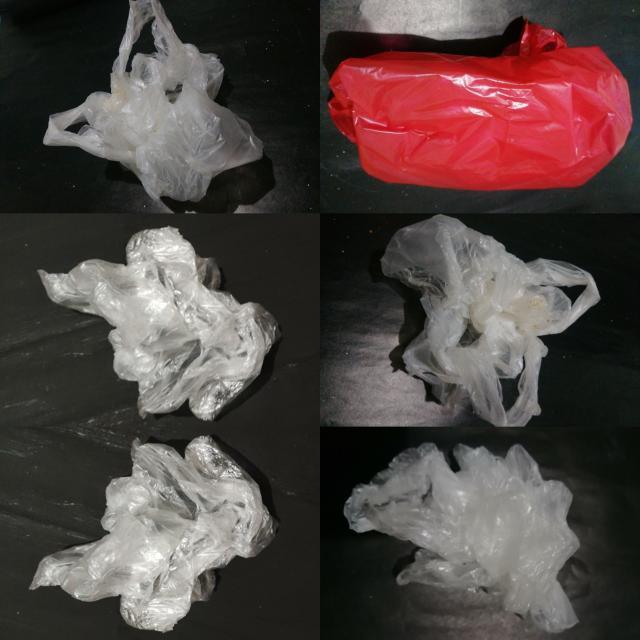Single-layer Plastic: (329, 21, 632, 191), (31, 436, 275, 631), (39, 226, 280, 419), (382, 215, 599, 426), (344, 444, 579, 632), (44, 0, 263, 201)
